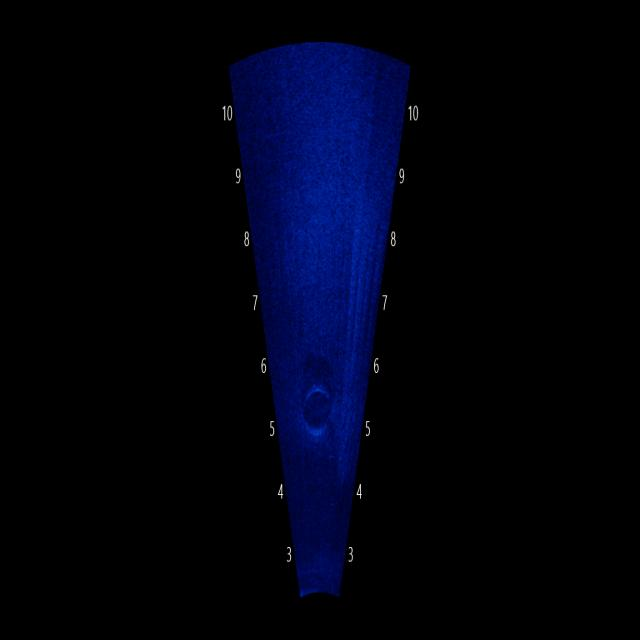circle: (290, 364, 334, 448)
